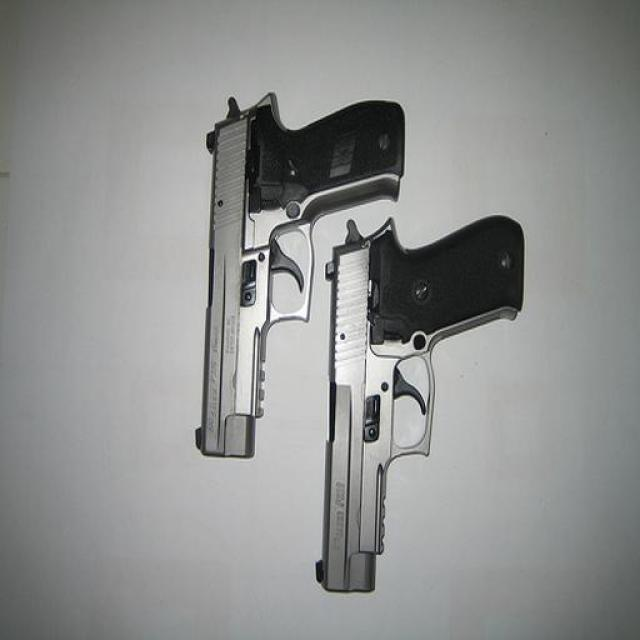pistol: (312, 215, 522, 591), (192, 90, 405, 456)
